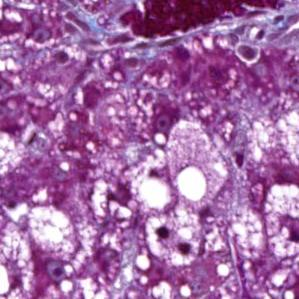ballooning: (140, 211, 203, 268)
